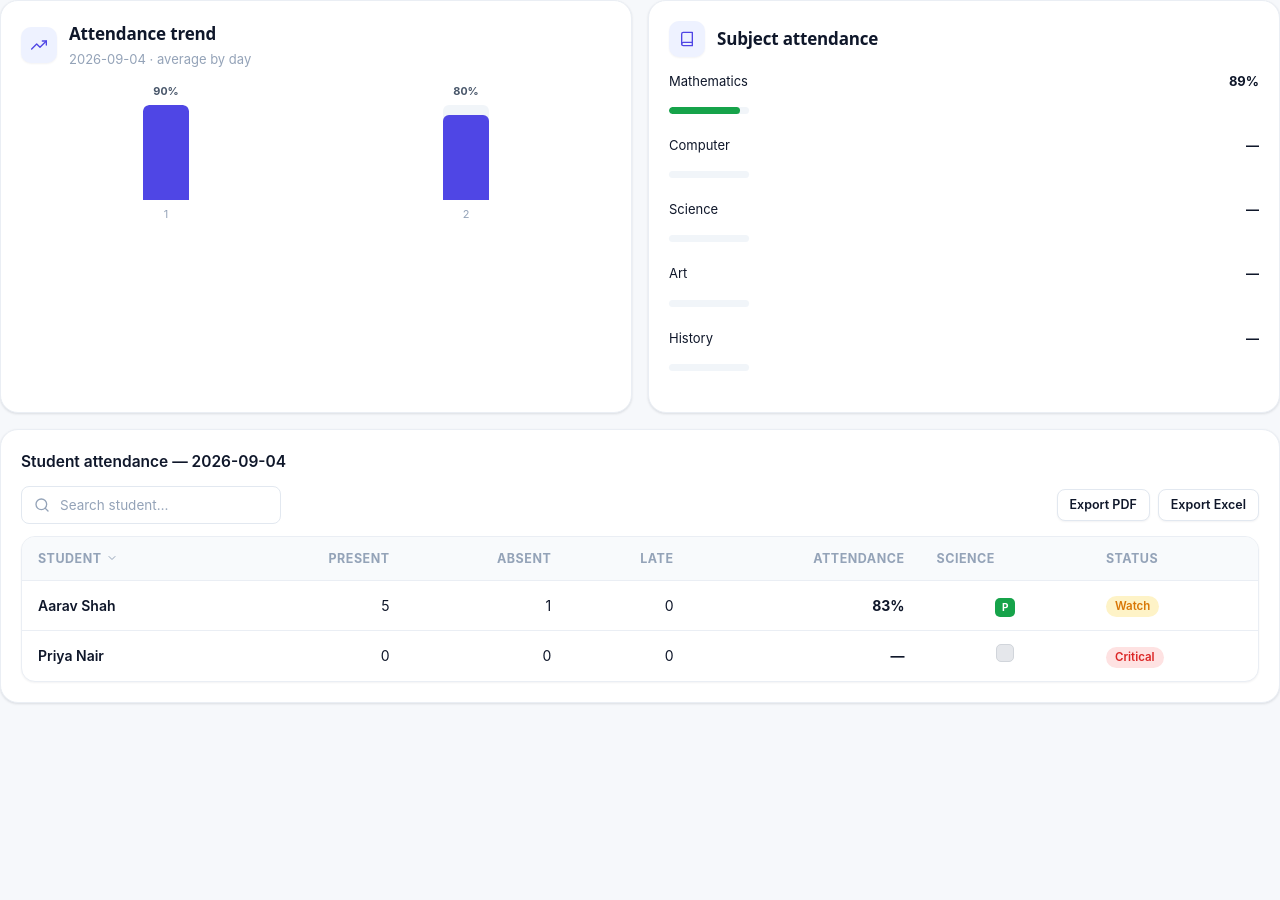
ClassAttendanceOverview › filters the student table by name via the search box
Expected: the text "Aarav Shah" is shown, [38, 597, 116, 614]
Expected: the text "Priya Nair" is shown, [38, 647, 104, 664]
In the field with placeholder "Search student…": (163, 505) [58, 496, 268, 514], type "priya"
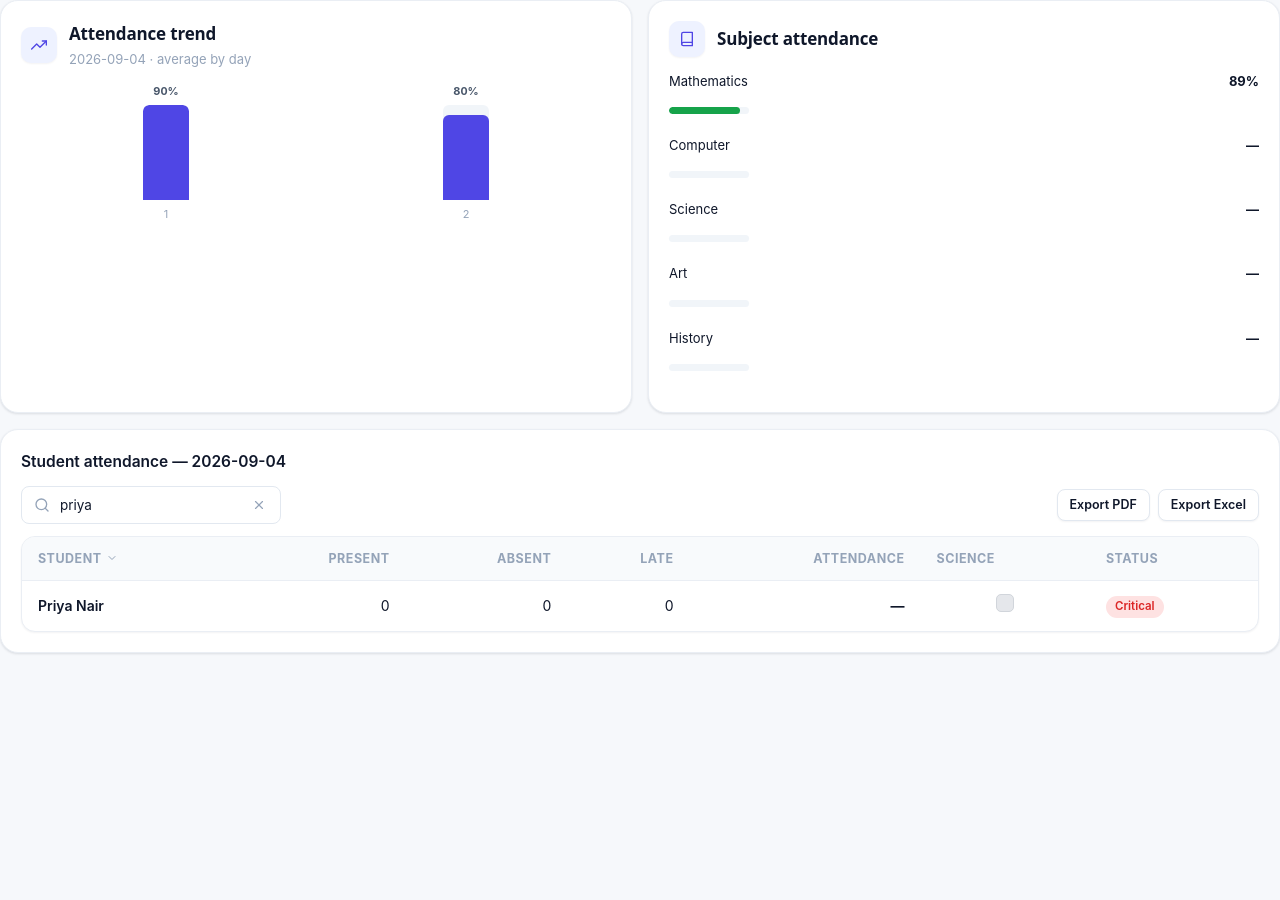
Expected: the text "Priya Nair" is shown, [38, 597, 104, 614]
Now the text "Aarav Shah" is gone
